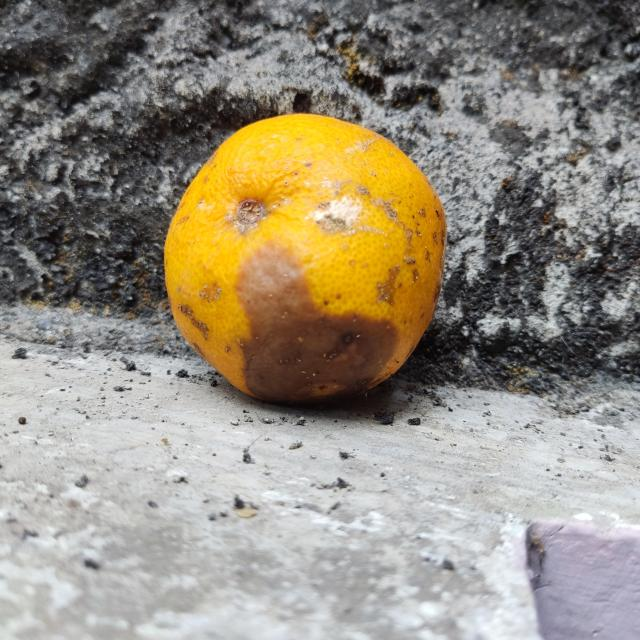orange: (164, 114, 450, 412)
